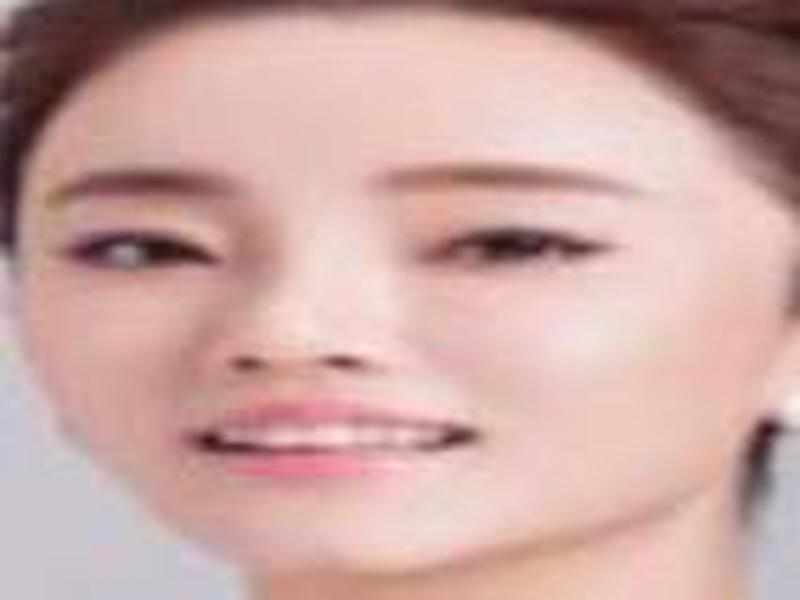without_mask: (23, 76, 748, 578)
